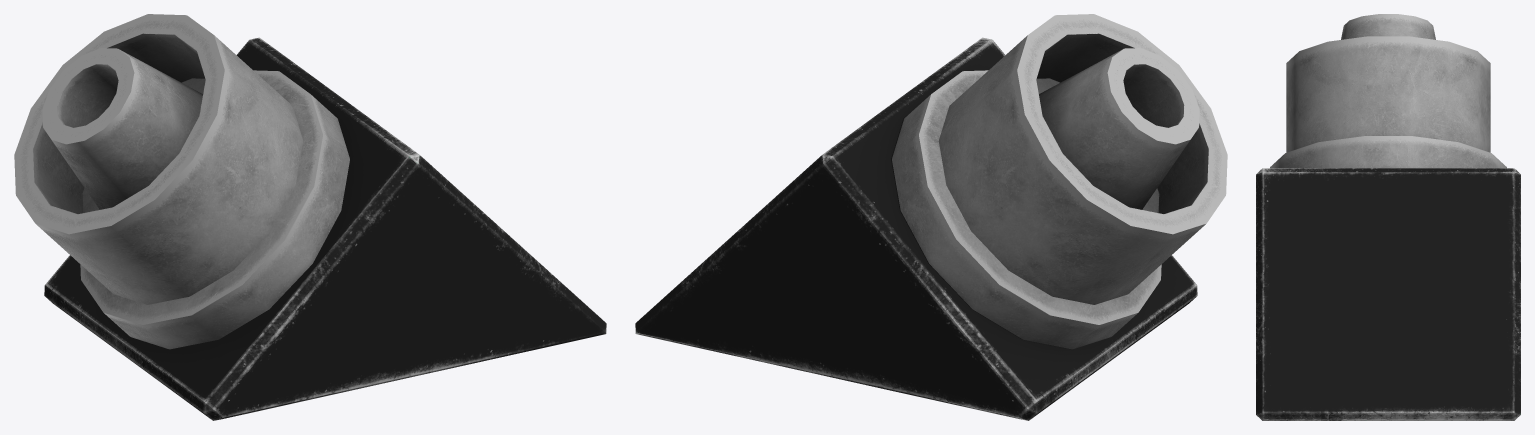
The model's file is Slot.fbx.
3 views of the same model, side by side, from view 1: azimuth 30°, elevation 25°; view 2: azimuth 150°, elevation 25°; view 3: azimuth 270°, elevation 25° (orthographic). The views are drawn at different scales.
Visible parts, largest first — view 1: Plug; view 2: Plug; view 3: Plug.
Part boxes in pixels (x1,y1,x2,y2): Plug: [14, 14, 606, 420]; Plug: [635, 14, 1227, 420]; Plug: [1256, 14, 1520, 420].
Size of the model in its own units: 17.16 by 11 by 10.18.
